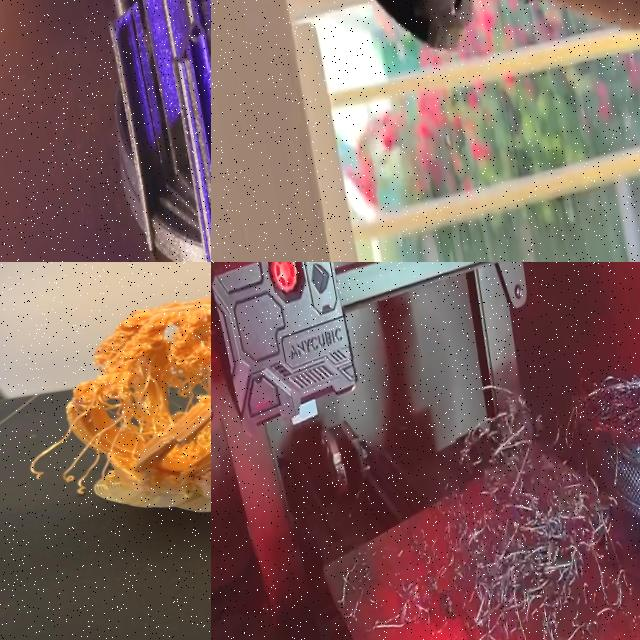spaghetti: (327, 375, 640, 640), (9, 270, 211, 515)
